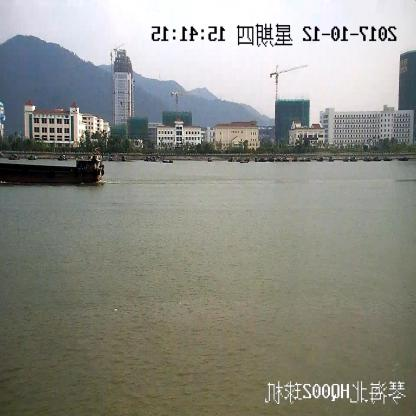Bulk Carrier: (1, 153, 105, 188)
